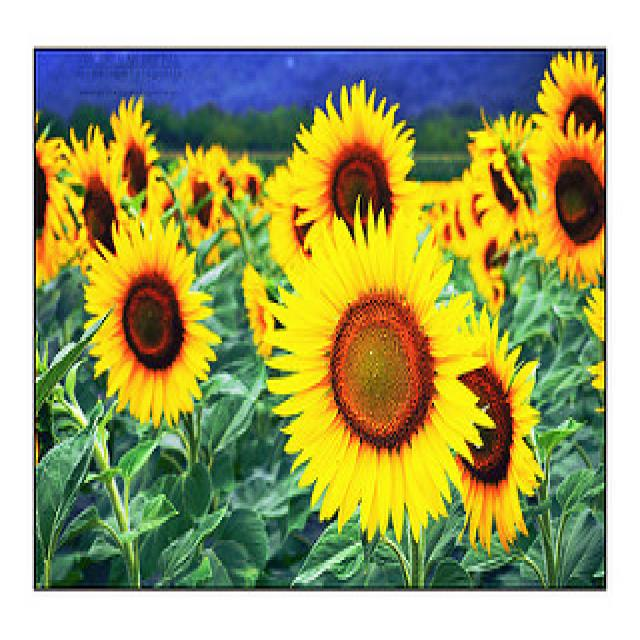sunflower: (260, 212, 494, 532), (74, 203, 222, 417), (282, 73, 418, 273), (442, 312, 550, 554), (528, 113, 610, 296), (97, 90, 177, 233), (34, 111, 84, 286), (172, 144, 236, 250)
